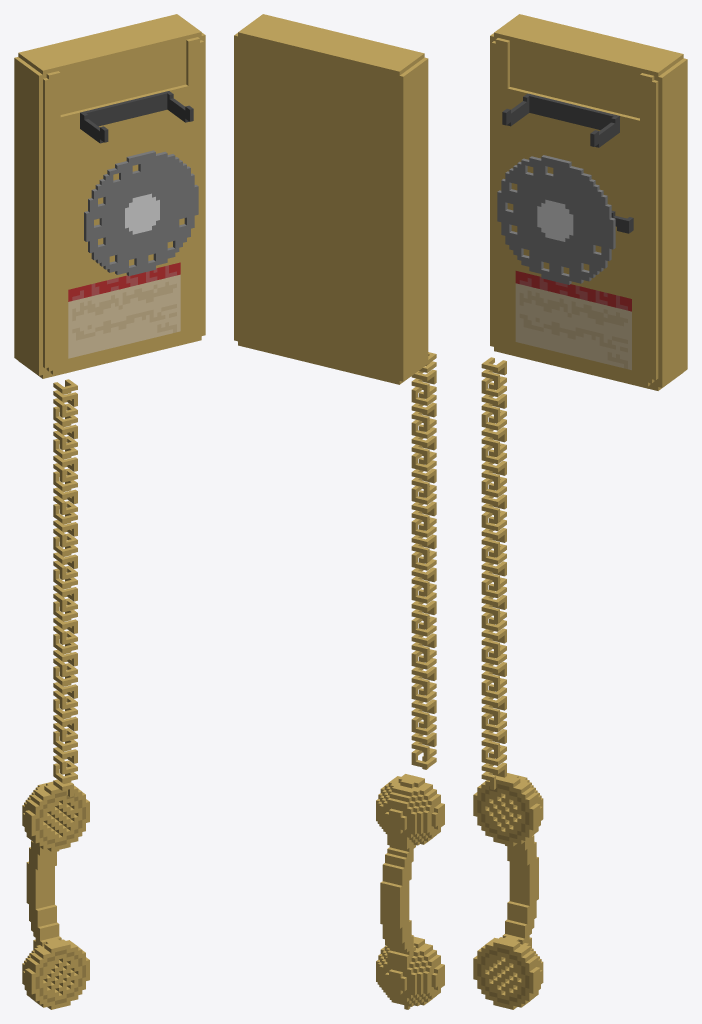
Rendered from home phone.obj.
3 renders of one model, left to right at view 1: azimuth 30°, elevation 25°; view 2: azimuth 150°, elevation 25°; view 3: azimuth 330°, elevation 25°, orthographic. The views are drawn at different scales.
Bounding box in the file's own units: 4.6 × 23.2 × 2.3.
1 material, 1 textured.
